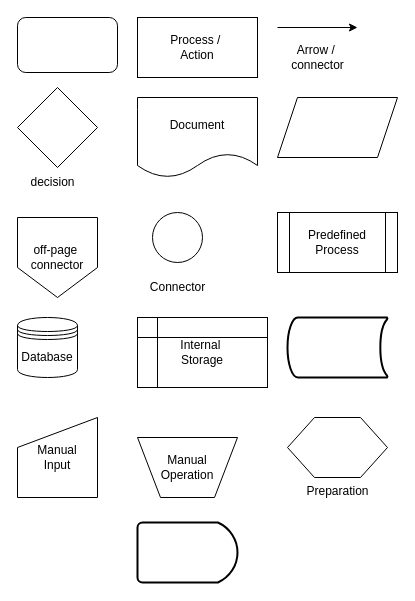
Some shapes in this 415 by 601 pixel diagram are drawn without their labels. Here are the shapes that lost their labels. From the top down, the centre of each, then its label:
(x=67, y=44): Start / End
(x=57, y=127): diamond
(x=337, y=127): Input / Output
(x=337, y=347): Stored Data
(x=187, y=552): Delay
